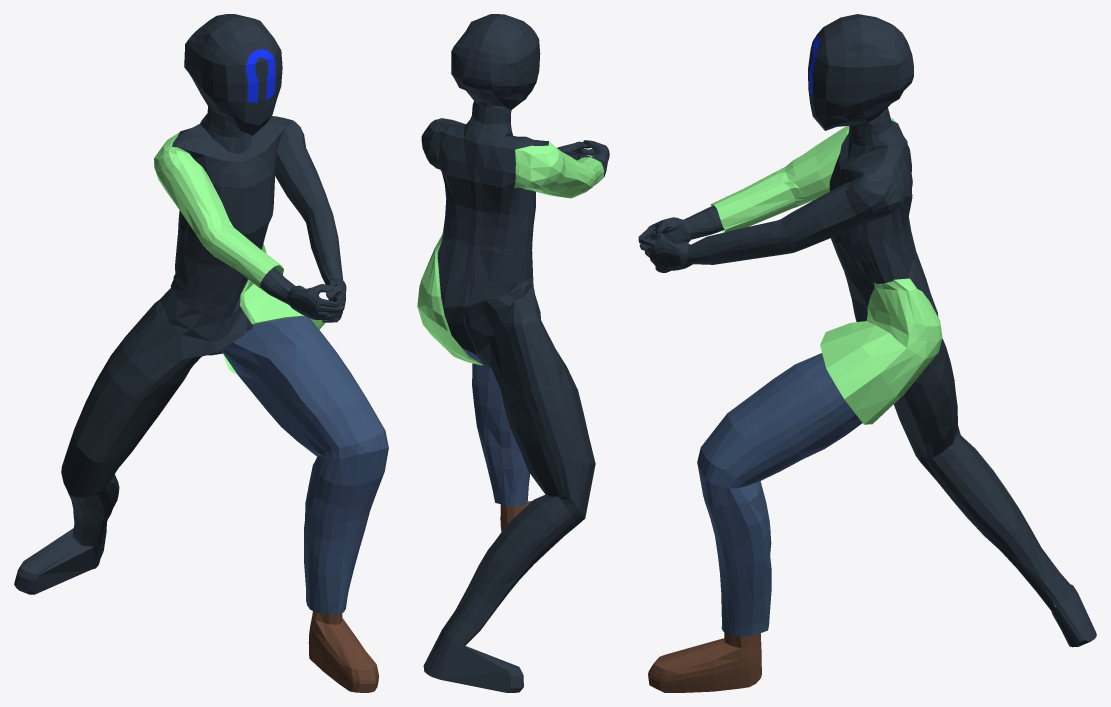
File: Mar_Attack_000029.obj
3 views of the same model, side by side, from view 1: azimuth 30°, elevation 25°; view 2: azimuth 150°, elevation 25°; view 3: azimuth 270°, elevation 25° (orthographic). The views are drawn at different scales.
Parts seen in each view (by area): view 1: Cube.000_Cube.001; view 2: Cube.000_Cube.001; view 3: Cube.000_Cube.001.
Boxes of the visible parts, box(x1,y1,x2,y2) form: Cube.000_Cube.001: box(14, 14, 388, 692); Cube.000_Cube.001: box(417, 14, 609, 692); Cube.000_Cube.001: box(638, 14, 1096, 692).
Size of the model in its own units: 1.26 by 3.45 by 2.19.
